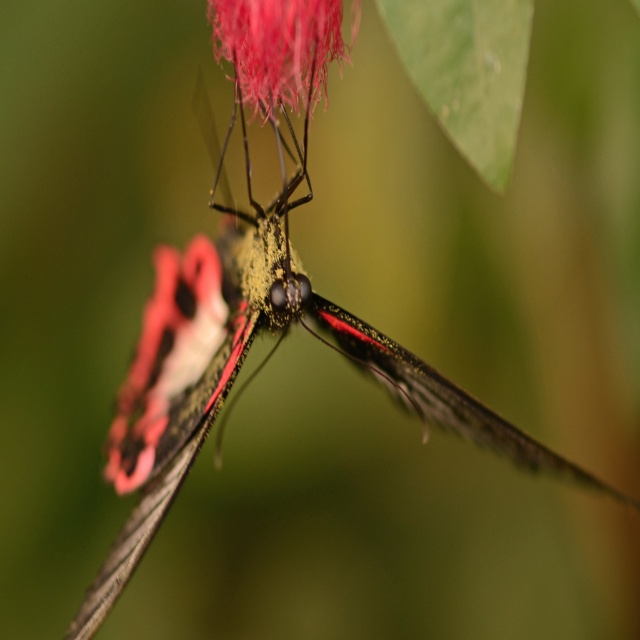Butterfly: (100, 104, 594, 577)
